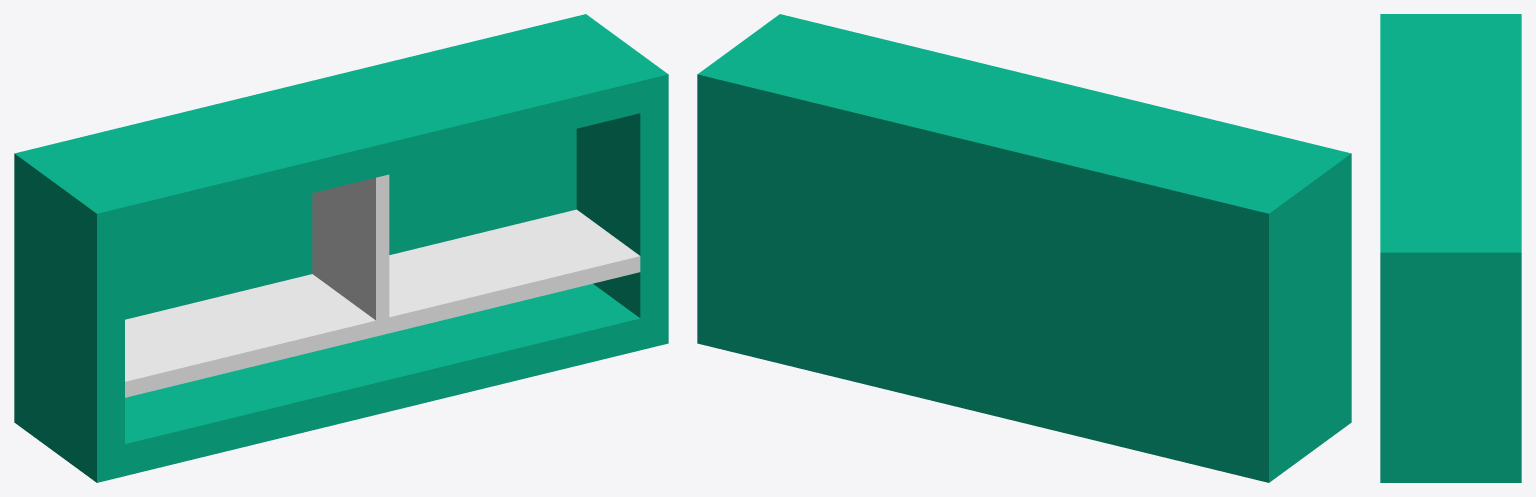
The model's file is cabinet3.fbx.
3 renders of one model, left to right at view 1: azimuth 30°, elevation 25°; view 2: azimuth 150°, elevation 25°; view 3: azimuth 270°, elevation 25°, orthographic. The views are drawn at different scales.
Visible parts, largest first — view 1: cabinet3; view 2: cabinet3; view 3: cabinet3.
Boxes of the visible parts, bbox=[...] form: cabinet3: bbox=[14, 14, 668, 482]; cabinet3: bbox=[697, 14, 1351, 482]; cabinet3: bbox=[1380, 14, 1521, 482].
Bounding box in the file's own units: 400 × 180 × 100.
